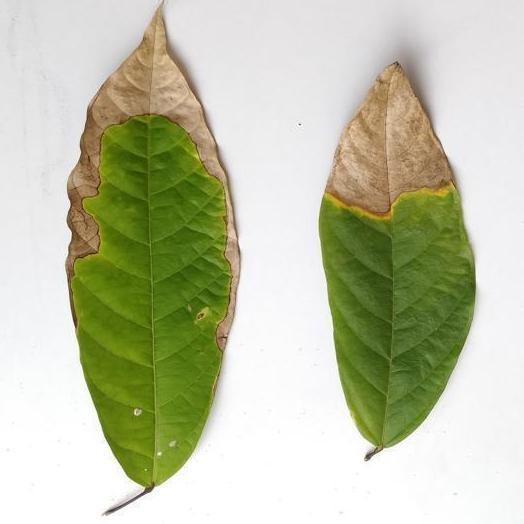Potassium: (66, 9, 238, 501), (320, 63, 475, 459)
